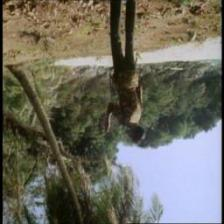monkey: (118, 121, 147, 144)
